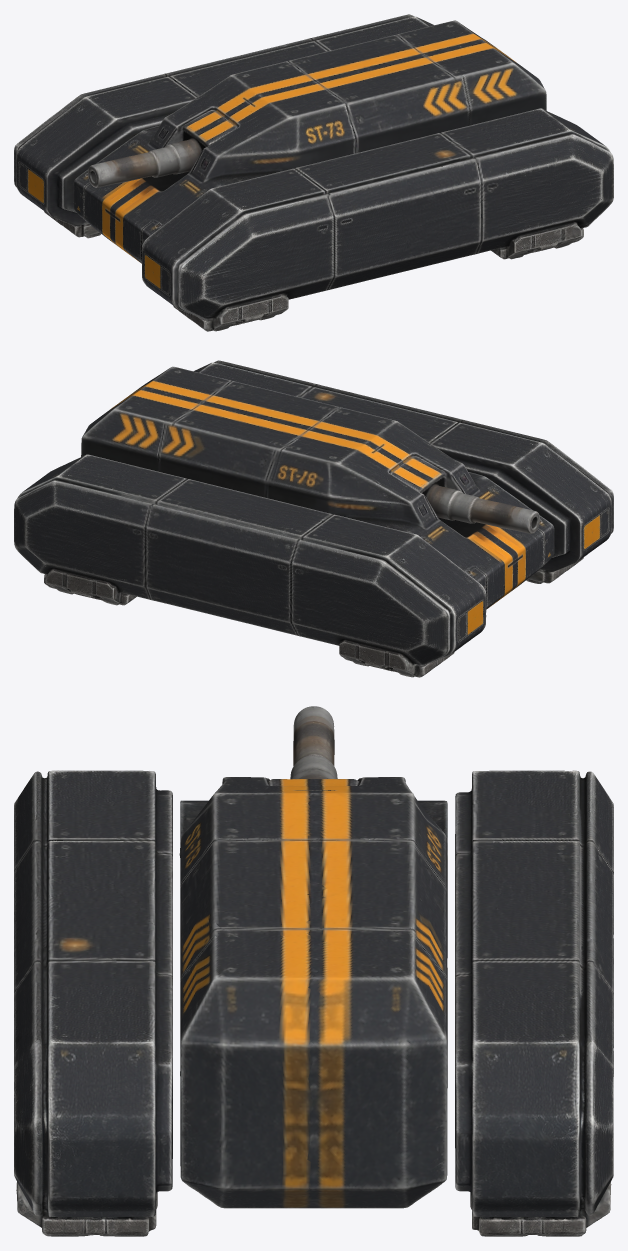
The model's file is Meshy_AI_Ironclad_Striker_1028091033_texture.glb.
The picture shows the model from 3 angles, top to bottom: view 1: azimuth 30°, elevation 25°; view 2: azimuth 150°, elevation 25°; view 3: azimuth 270°, elevation 25°; orthographic projection. The views are drawn at different scales.
Size of the model in its own units: 1.9 by 0.6145 by 1.32.
Materials: 1 (1 with a texture image).
